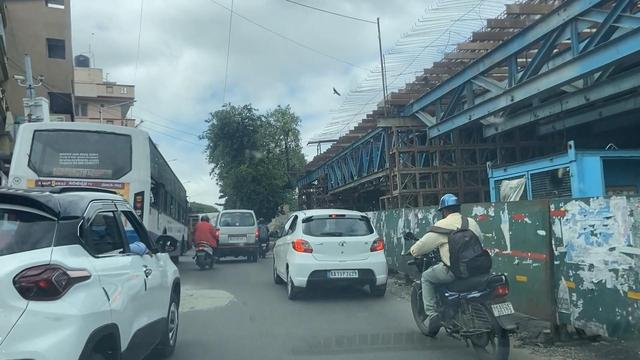LMV: (420, 200, 513, 354), (289, 211, 386, 301), (217, 212, 256, 262), (196, 214, 215, 270)
RoadDamages: (182, 287, 233, 308)
